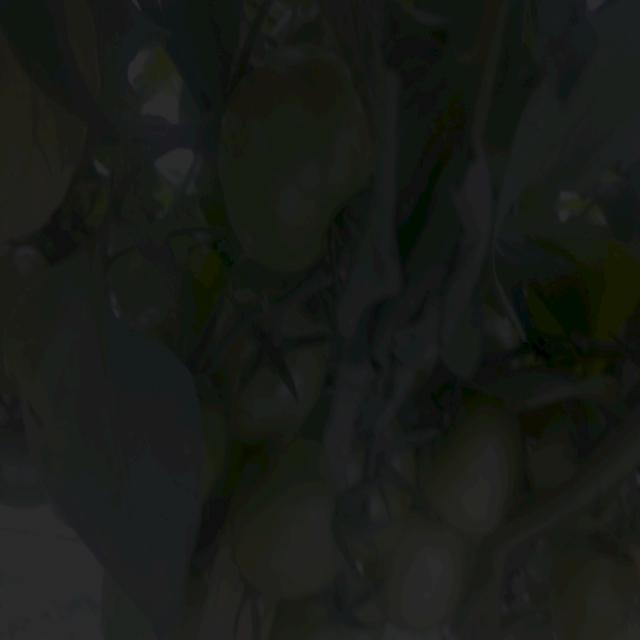tomato: (229, 54, 369, 260), (241, 441, 346, 583), (1, 73, 77, 244), (226, 300, 320, 433), (428, 405, 519, 523), (378, 512, 471, 627), (557, 534, 640, 640), (270, 559, 373, 640), (346, 451, 416, 518), (590, 243, 640, 335), (523, 430, 580, 495)
